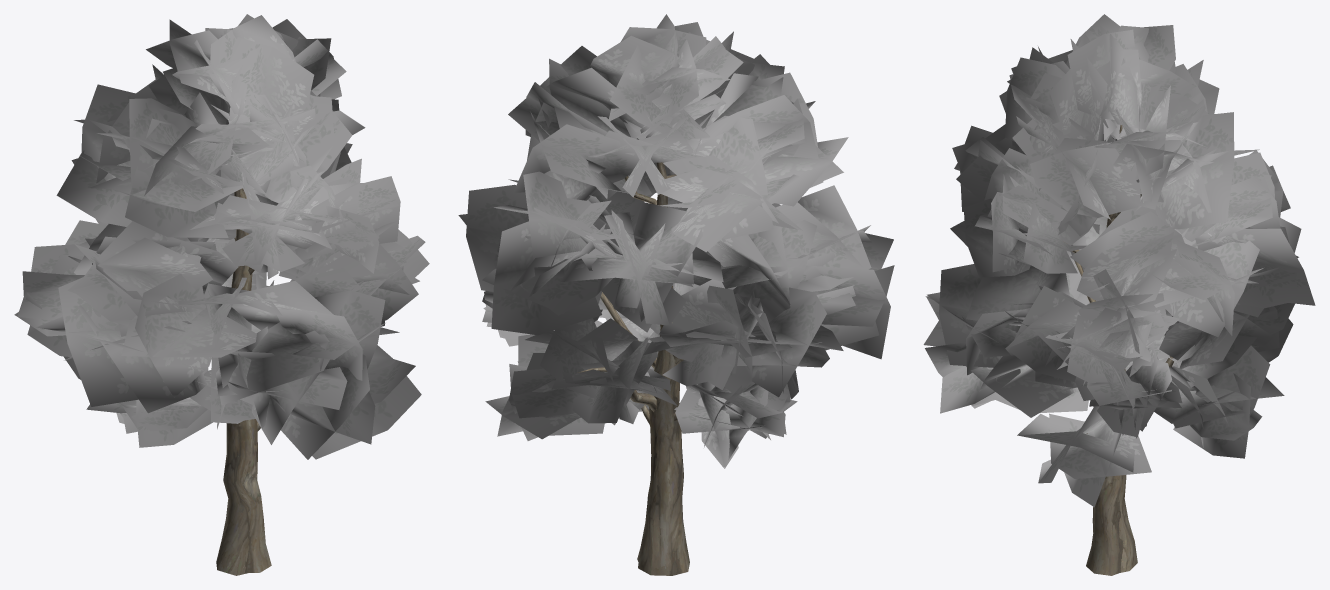
Rendered from SM_Com_Tre_17AM.fbx.
The picture shows the model from 3 angles, left to right: view 1: azimuth 30°, elevation 25°; view 2: azimuth 150°, elevation 25°; view 3: azimuth 270°, elevation 25°; orthographic projection. The views are drawn at different scales.
Visible parts, largest first — view 1: SM_Com_Tre_17AM.mo; view 2: SM_Com_Tre_17AM.mo; view 3: SM_Com_Tre_17AM.mo.
Part boxes in pixels (x1,y1,x2,y2): SM_Com_Tre_17AM.mo: [14, 14, 429, 575]; SM_Com_Tre_17AM.mo: [458, 14, 894, 575]; SM_Com_Tre_17AM.mo: [923, 14, 1315, 575].
Size of the model in its own units: 6 by 8.14 by 5.49.
